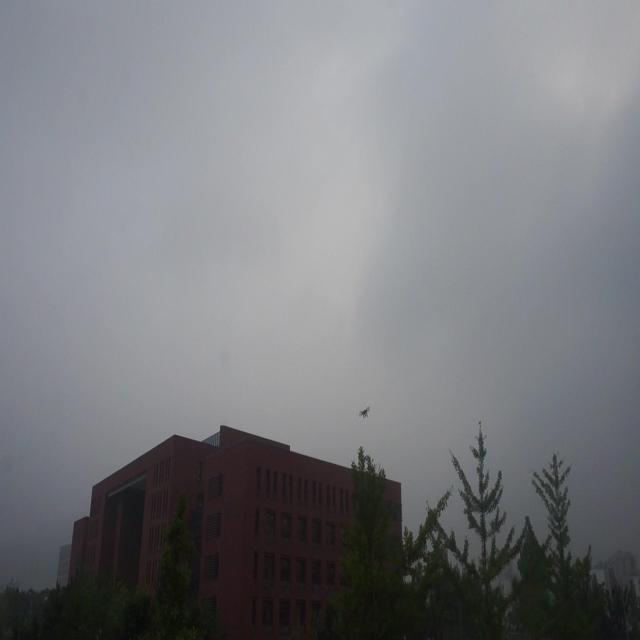drone: (357, 405, 372, 420)
